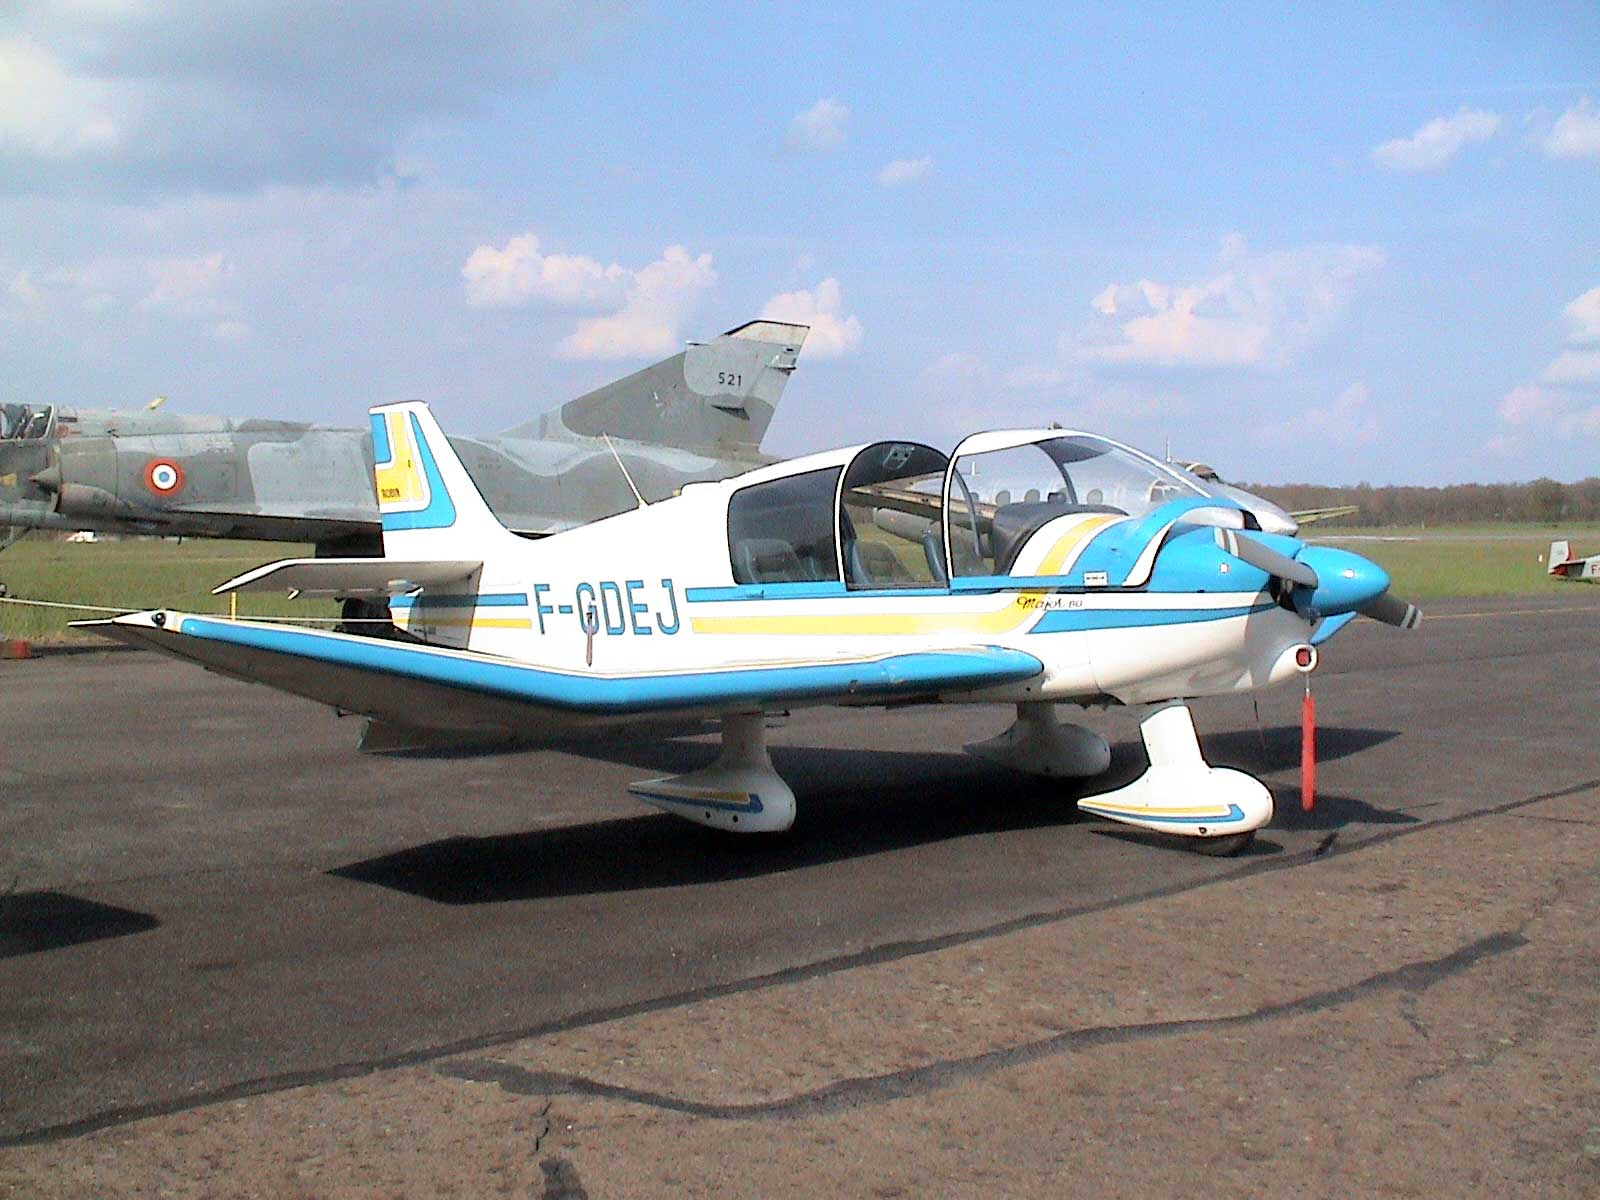Aeronef_de_loisir: (24, 392, 1474, 892)
Aeronef_militaire: (8, 308, 814, 565)
